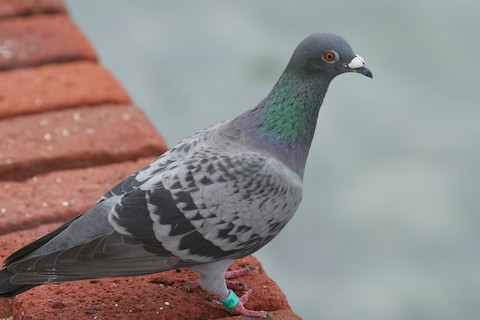pigeon: (7, 27, 383, 308)
